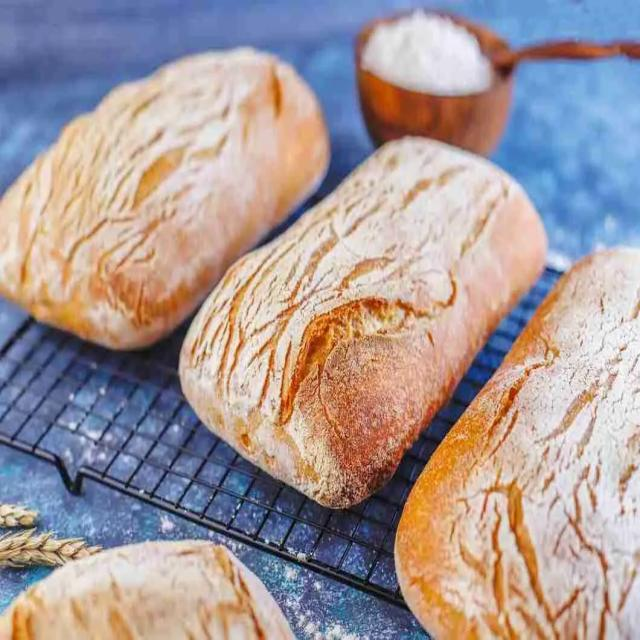Ciabatta: (179, 138, 546, 508), (0, 48, 330, 349), (394, 247, 639, 639)
